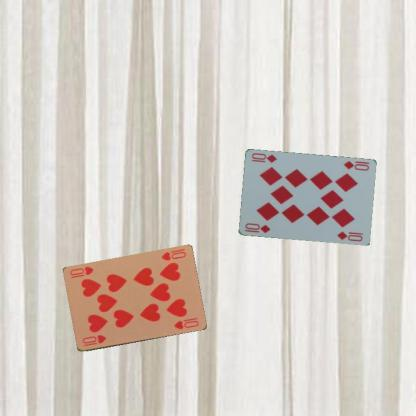10d: (242, 220, 272, 235), (341, 158, 370, 172)
10h: (80, 332, 107, 347), (158, 249, 188, 262)
